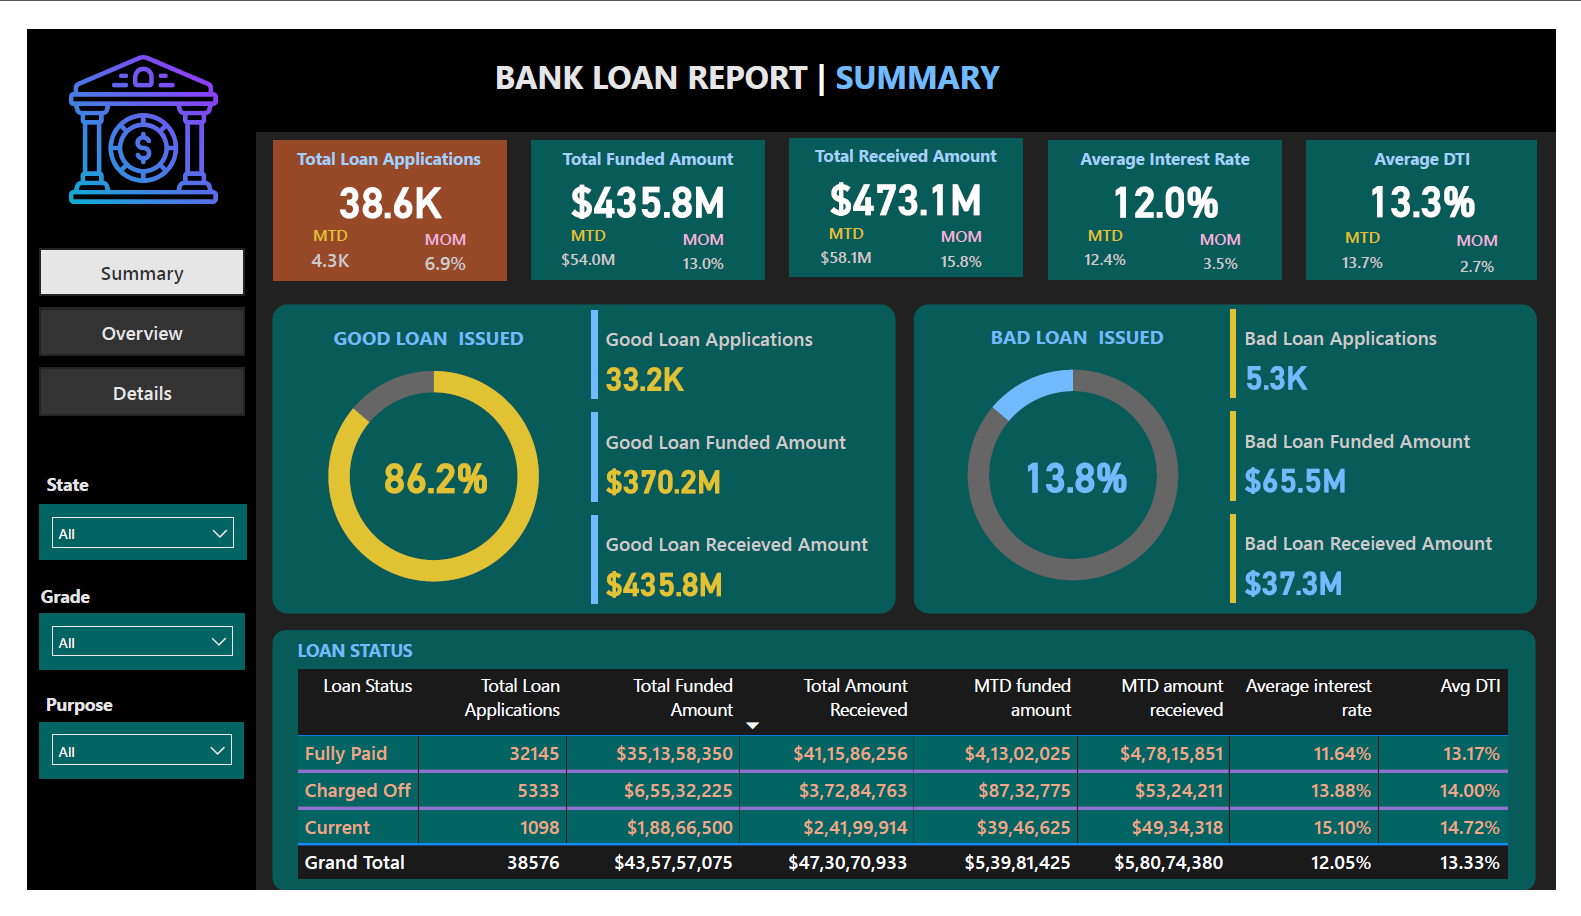

This screenshot's page, from the dashboard's own definition file:
{"tool":"powerbi","page":{"name":"Summary","canvas":[1280,720],"ordinal":0},"visuals":[{"type":"shape","box":[0,70.7,191.4,649.1],"z":0},{"type":"shape","box":[638.4,91.4,194.5,116.4],"z":0,"group":"g3"},{"type":"shape","box":[422.1,92.8,194.5,116.4],"z":0,"group":"g2"},{"type":"shape","box":[854.7,92.8,194.5,116.4],"z":0,"group":"g4"},{"type":"shape","box":[205.8,93.1,194.5,116.4],"z":0,"group":"g1"},{"type":"shape","box":[1070.9,93.2,192.6,116],"z":0,"group":"g5"},{"type":"slicer","fields":{"Values":["financial_loan.address_state"]},"box":[9.6,397.8,172.6,46.6],"z":0,"group":"g6"},{"type":"slicer","fields":{"Values":["financial_loan.grade"]},"box":[9.5,488.7,172.6,46.6],"z":0,"group":"g7"},{"type":"slicer","fields":{"Values":["financial_loan.purpose"]},"box":[10,579.6,171.4,47.1],"z":0},{"type":"shape","box":[0,0,1280.6,85],"z":1000},{"type":"card","fields":{"Values":["financial_loan.Avg DTI"]},"box":[1070.9,117.7,193.2,47.9],"z":1000,"group":"g5"},{"type":"card","fields":{"Values":["financial_loan.Total Amount Receieved"]},"box":[638.4,118.8,194.5,42.5],"z":1000,"group":"g3"},{"type":"card","fields":{"Values":["financial_loan.Total Loan Amount"]},"box":[422.1,120.2,194.5,42.5],"z":1000,"group":"g2"},{"type":"card","fields":{"Values":["financial_loan.Average interest rate"]},"box":[854.7,120.2,194.5,42.5],"z":1000,"group":"g4"},{"type":"card","fields":{"Values":["financial_loan.Total Loan Applications"]},"box":[205.8,120.5,194.5,42.5],"z":1000,"group":"g1"},{"type":"textbox","box":[10.2,365,54.8,32.9],"z":1000,"group":"g6"},{"type":"textbox","box":[6,458.8,60.3,30.1],"z":1000,"group":"g7"},{"type":"textbox","box":[10,549.6,84.1,30.1],"z":1000},{"type":"textbox","box":[386.3,16.4,506.8,52.1],"z":2000},{"type":"textbox","box":[638.4,91.4,194.5,28.8],"z":2000,"group":"g3"},{"type":"textbox","box":[422.1,92.8,194.5,28.8],"z":2000,"group":"g2"},{"type":"textbox","box":[854.7,92.8,194.5,28.8],"z":2000,"group":"g4"},{"type":"textbox","box":[206,93,193.2,28.8],"z":2000,"group":"g1"},{"type":"textbox","box":[1070.9,93.6,194,33.9],"z":2000,"group":"g5"},{"type":"shape","box":[205.5,230.1,521.9,258.9],"z":2000,"group":"g8"},{"type":"group","id":"g1","title":"Group 1","box":[205.8,93,194.5,116.6],"z":3000},{"type":"card","title":"MTD","fields":{"Values":["financial_loan.MTD amount receieved"]},"box":[656.2,161.3,58.9,45.2],"z":3000,"group":"g3"},{"type":"card","title":"MTD","fields":{"Values":["financial_loan.MTD funded amount"]},"box":[439.9,162.7,58.9,45.2],"z":3000,"group":"g2"},{"type":"card","title":"MTD","fields":{"Values":["financial_loan.MTD avg int rate"]},"box":[872.5,162.7,58.9,45.2],"z":3000,"group":"g4"},{"type":"card","title":"MTD","fields":{"Values":["financial_loan.MTD loan applications"]},"box":[223.6,163,58.9,45.2],"z":3000,"group":"g1"},{"type":"card","title":"MTD","fields":{"Values":["financial_loan.MTD AVG DTI"]},"box":[1088.5,164.9,58.3,41.9],"z":3000,"group":"g5"},{"type":"donutChart","fields":{"Category":["financial_loan.Good v Bad Loan"],"Y":["financial_loan.Total Loan Applications"]},"box":[215.1,258.9,250.7,230.1],"z":3000,"group":"g8"},{"type":"group","id":"g2","title":"Group 1","box":[422.1,92.8,194.5,116.4],"z":4000},{"type":"card","title":"MOM","fields":{"Values":["financial_loan.MOM amount receieved"]},"box":[758.9,164,46.6,43.8],"z":4000,"group":"g3"},{"type":"card","title":"MOM","fields":{"Values":["financial_loan.MOM Funded amount"]},"box":[542.6,165.4,46.6,43.8],"z":4000,"group":"g2"},{"type":"card","title":"MOM","fields":{"Values":["financial_loan.MOM avg int rate"]},"box":[975.2,165.4,46.6,43.8],"z":4000,"group":"g4"},{"type":"card","title":"MOM","fields":{"Values":["financial_loan.MOM loan applications"]},"box":[326.3,165.7,46.6,43.8],"z":4000,"group":"g1"},{"type":"card","title":"MOM","fields":{"Values":["financial_loan.MOM AVG DTI"]},"box":[1191,167.3,45.7,48.6],"z":4000,"group":"g5"},{"type":"card","fields":{"Values":["financial_loan.Good loan %"]},"box":[245.2,352,194.5,42.5],"z":4000,"group":"g8"},{"type":"group","id":"g3","title":"Group 1","box":[638.4,91.4,194.5,116.4],"z":5000},{"type":"group","id":"g4","title":"Group 1","box":[854.7,92.8,194.5,116.4],"z":6000},{"type":"group","id":"g5","title":"Group 1","box":[1070.9,93.2,194,122.6],"z":7000},{"type":"shape","box":[742.5,230.1,521.9,258.9],"z":8000},{"type":"donutChart","fields":{"Category":["financial_loan.Good v Bad Loan"],"Y":["financial_loan.Total Loan Applications"]},"box":[750,257.9,250.7,230.1],"z":9000},{"type":"card","fields":{"Values":["financial_loan.Bad loan %"]},"box":[780.1,351.1,194.5,42.5],"z":10000},{"type":"textbox","box":[747.9,241.1,261.6,32.9],"z":11000},{"type":"cardVisual","fields":{"Data":["financial_loan.Bad Loan Applications","financial_loan.Bad Loan Funded Amount","financial_loan.Bad Loan Receieved Amount"]},"box":[1002.1,229.2,260.3,258.9],"z":12000},{"type":"textbox","box":[205.5,242.4,261.6,32.9],"z":12000,"group":"g8"},{"type":"cardVisual","fields":{"Data":["financial_loan.Good Loan Applications","financial_loan.Good Loan Funded Amount","financial_loan.Good Loan Receieved Amount"]},"box":[467.1,230.1,260.3,258.9],"z":13000,"group":"g8"},{"type":"shape","box":[205.5,502.7,1057.5,217.8],"z":13000},{"type":"tableEx","fields":{"Values":["financial_loan.loan_status","financial_loan.Total Loan Applications","financial_loan.Total Funded Amount","financial_loan.Total Amount Receieved","financial_loan.MTD funded amount","financial_loan.MTD amount receieved","financial_loan.Average interest rate","financial_loan.Avg DTI"]},"box":[221.4,531.4,1024.3,182.9],"z":14000},{"type":"textbox","box":[221.4,504.3,261.4,30],"z":15000},{"type":"group","id":"g6","title":"Group 2","box":[9.6,365,172.6,79.4],"z":16000},{"type":"group","id":"g7","title":"Group 2","box":[6,458.8,176.1,76.5],"z":17000},{"type":"pageNavigator","box":[10,182.9,172.9,142.9],"z":19000},{"type":"image","box":[30,17.1,134.3,134.3],"z":20000},{"type":"group","id":"g8","title":"Group 3","box":[205.5,230.1,521.9,258.9],"z":21000}]}

Visuals, with their boxes in screenshot pixels (x1, y1, x2, y2), scaled from the page's 1280x720 canvas onto the 1581x916 screenshot:
shape: x1=0, y1=90, x2=236, y2=915
shape: x1=789, y1=116, x2=1029, y2=264
shape: x1=521, y1=118, x2=762, y2=266
shape: x1=1056, y1=118, x2=1296, y2=266
shape: x1=254, y1=118, x2=494, y2=267
shape: x1=1323, y1=119, x2=1561, y2=266
slicer - financial_loan.address_state: x1=12, y1=506, x2=225, y2=565
slicer - financial_loan.grade: x1=12, y1=622, x2=225, y2=681
slicer - financial_loan.purpose: x1=12, y1=737, x2=224, y2=797
shape: x1=0, y1=0, x2=1580, y2=108
card - financial_loan.Avg DTI: x1=1323, y1=150, x2=1561, y2=211
card - financial_loan.Total Amount Receieved: x1=789, y1=151, x2=1029, y2=205
card - financial_loan.Total Loan Amount: x1=521, y1=153, x2=762, y2=207
card - financial_loan.Average interest rate: x1=1056, y1=153, x2=1296, y2=207
card - financial_loan.Total Loan Applications: x1=254, y1=153, x2=494, y2=207
textbox: x1=13, y1=464, x2=80, y2=506
textbox: x1=7, y1=584, x2=82, y2=622
textbox: x1=12, y1=699, x2=116, y2=738
textbox: x1=477, y1=21, x2=1103, y2=87
textbox: x1=789, y1=116, x2=1029, y2=153
textbox: x1=521, y1=118, x2=762, y2=155
textbox: x1=1056, y1=118, x2=1296, y2=155
textbox: x1=254, y1=118, x2=493, y2=155
textbox: x1=1323, y1=119, x2=1562, y2=162
shape: x1=254, y1=293, x2=898, y2=622
"Group 1" group: x1=254, y1=118, x2=494, y2=267
"MTD" card: x1=811, y1=205, x2=883, y2=263
"MTD" card: x1=543, y1=207, x2=616, y2=264
"MTD" card: x1=1078, y1=207, x2=1150, y2=264
"MTD" card: x1=276, y1=207, x2=349, y2=265
"MTD" card: x1=1344, y1=210, x2=1416, y2=263
donutChart - financial_loan.Good v Bad Loan x financial_loan.Total Loan Applications: x1=266, y1=329, x2=575, y2=622
"Group 1" group: x1=521, y1=118, x2=762, y2=266
"MOM" card: x1=937, y1=209, x2=995, y2=264
"MOM" card: x1=670, y1=210, x2=728, y2=266
"MOM" card: x1=1205, y1=210, x2=1262, y2=266
"MOM" card: x1=403, y1=211, x2=461, y2=267
"MOM" card: x1=1471, y1=213, x2=1528, y2=275
card - financial_loan.Good loan %: x1=303, y1=448, x2=543, y2=502
"Group 1" group: x1=789, y1=116, x2=1029, y2=264
"Group 1" group: x1=1056, y1=118, x2=1296, y2=266
"Group 1" group: x1=1323, y1=119, x2=1562, y2=275
shape: x1=917, y1=293, x2=1562, y2=622
donutChart - financial_loan.Good v Bad Loan x financial_loan.Total Loan Applications: x1=926, y1=328, x2=1236, y2=621
card - financial_loan.Bad loan %: x1=964, y1=447, x2=1204, y2=501
textbox: x1=924, y1=307, x2=1247, y2=349
cardVisual - financial_loan.Bad Loan Applications x financial_loan.Bad Loan Funded Amount: x1=1238, y1=292, x2=1559, y2=621
textbox: x1=254, y1=308, x2=577, y2=350
cardVisual - financial_loan.Good Loan Applications x financial_loan.Good Loan Funded Amount: x1=577, y1=293, x2=898, y2=622
shape: x1=254, y1=640, x2=1560, y2=915
tableEx - financial_loan.loan_status x financial_loan.Total Loan Applications: x1=273, y1=676, x2=1539, y2=909
textbox: x1=273, y1=642, x2=596, y2=680
"Group 2" group: x1=12, y1=464, x2=225, y2=565
"Group 2" group: x1=7, y1=584, x2=225, y2=681
pageNavigator: x1=12, y1=233, x2=226, y2=414
image: x1=37, y1=22, x2=203, y2=193
"Group 3" group: x1=254, y1=293, x2=898, y2=622
